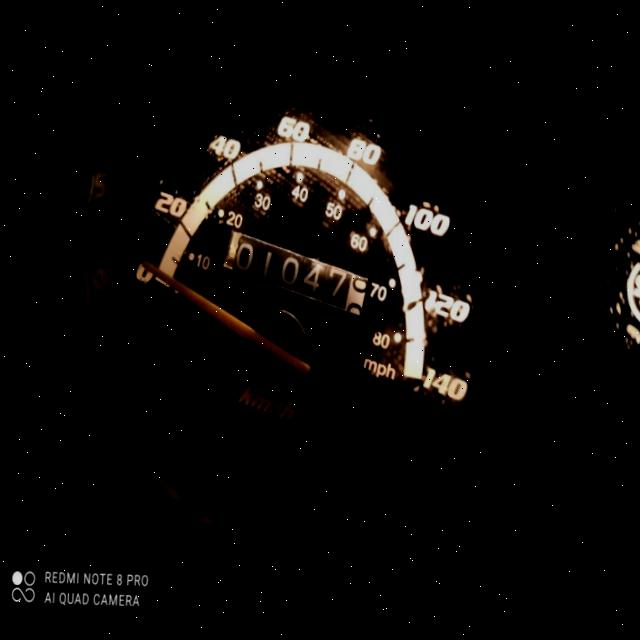odometer: (220, 224, 372, 332)
